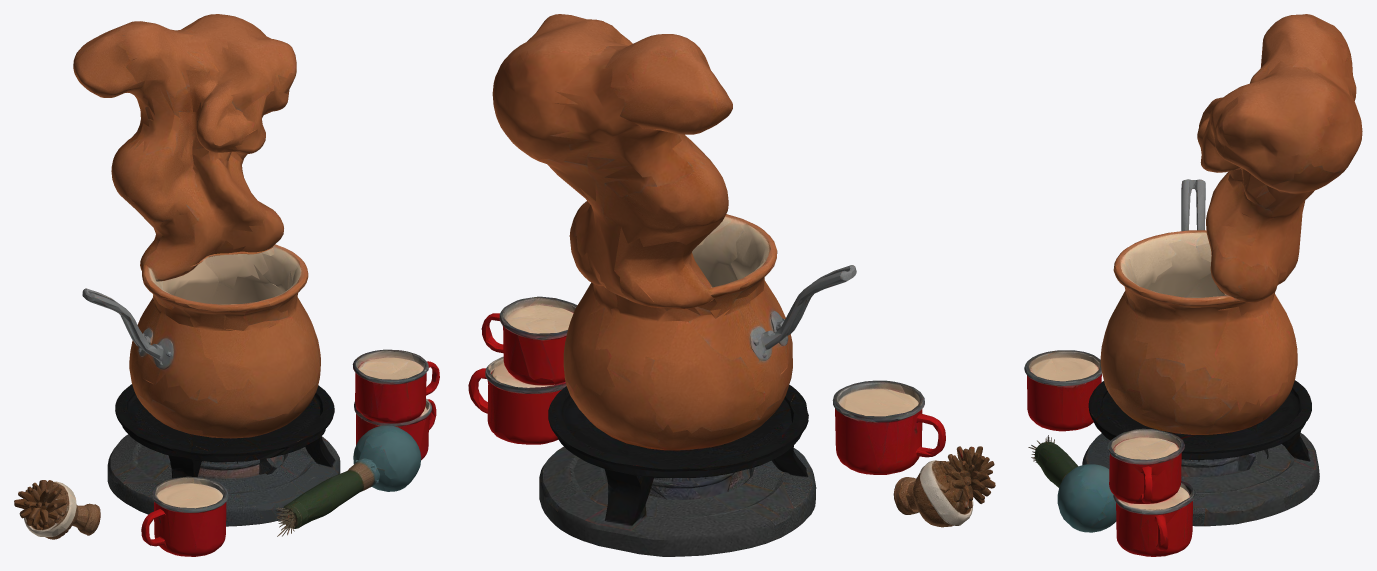
The model's file is xmas_glogg.glb.
The picture shows the model from 3 angles, left to right: view 1: azimuth 30°, elevation 25°; view 2: azimuth 150°, elevation 25°; view 3: azimuth 270°, elevation 25°; orthographic projection. The views are drawn at different scales.
Size of the model in its own units: 1.9 by 1.83 by 1.28.
Materials: 1 (1 with a texture image).
